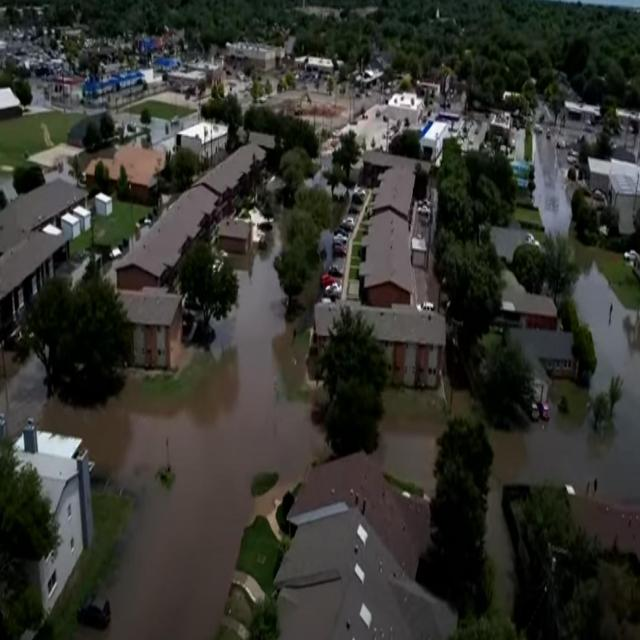flood: (11, 227, 324, 638), (489, 267, 640, 611), (379, 389, 447, 494), (534, 133, 573, 234), (492, 226, 529, 260)
house: (276, 518, 459, 640), (290, 448, 432, 582), (6, 422, 96, 621), (0, 174, 89, 342), (312, 297, 446, 401), (115, 188, 212, 276), (110, 286, 184, 380), (520, 321, 578, 408), (586, 154, 640, 244), (366, 210, 416, 306), (495, 279, 561, 329), (374, 162, 418, 224), (176, 119, 229, 161), (227, 38, 279, 75), (420, 118, 449, 166), (220, 216, 253, 256)
